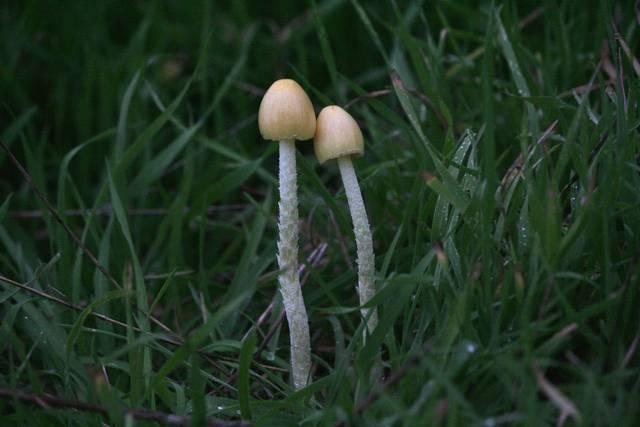Edible Mushroom: (257, 77, 317, 400), (312, 103, 379, 346)
